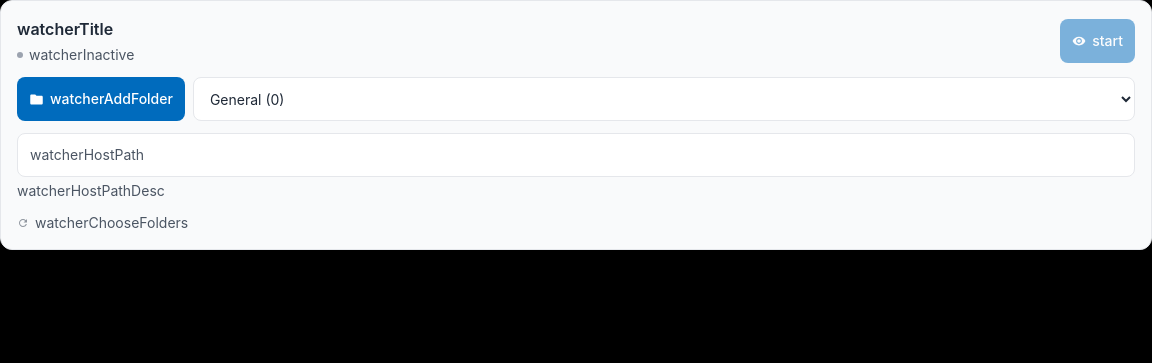
it: watcher card lifecycle › uses a host path watcher and reports start failures
In the field labelled "watcherHostPath": (576, 155) left=17, top=133, right=1135, bottom=177, type "/tmp/project"
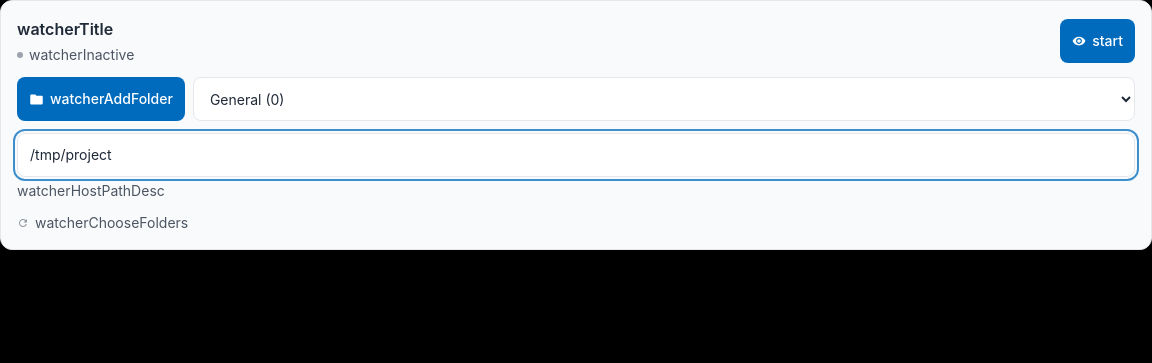
Click the button "start": (1098, 41) left=1060, top=19, right=1135, bottom=63
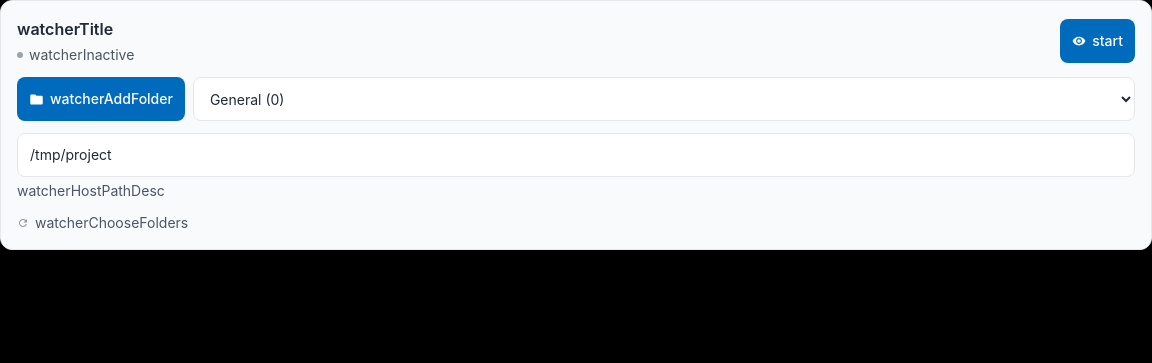
Click the button "start": (1098, 41) left=1060, top=19, right=1135, bottom=63
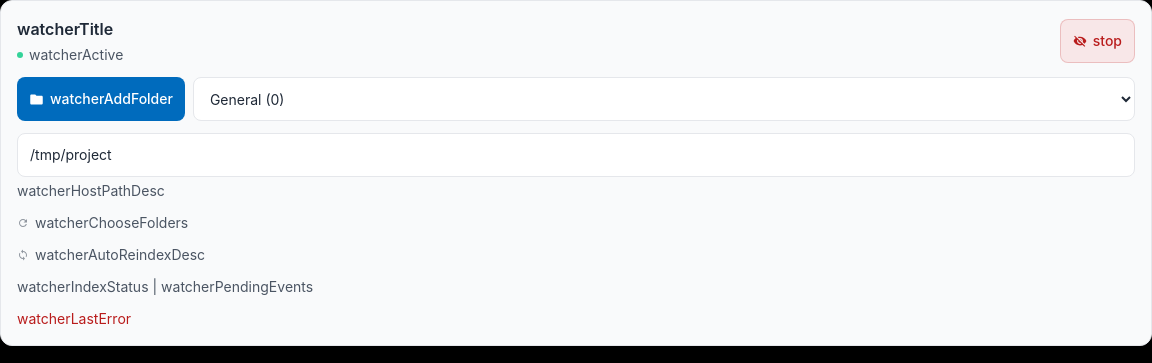
Check: the button "stop" is shown, box left=1060, top=19, right=1135, bottom=63
